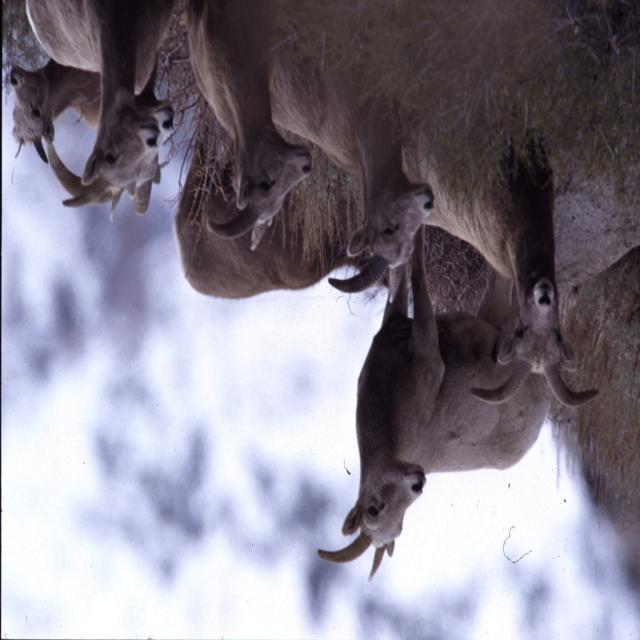Goat: (316, 224, 552, 584), (400, 115, 599, 411), (267, 43, 435, 305), (25, 2, 176, 218), (185, 2, 313, 253)
